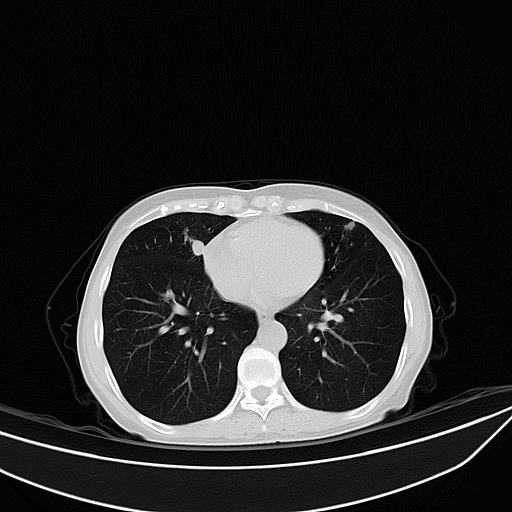nodule: (191, 238, 204, 256)
